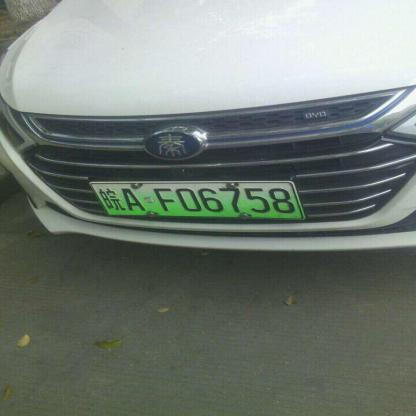lp: (90, 184, 304, 218)
